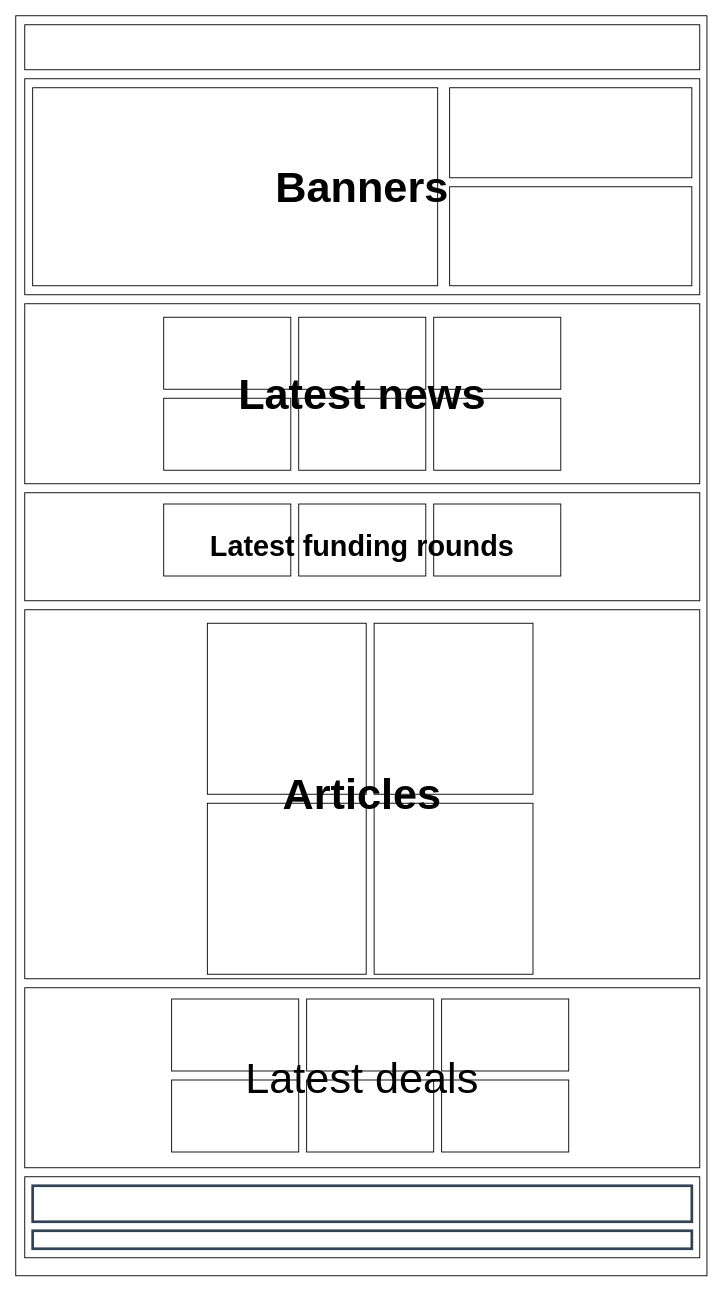
The diagram is 723 pixels wide and 1292 high, and some of its shapes have lost their labels. The shapes that lost their labels are listed below. From the top down, each one's box as (x1, y1, x2, y2) in pixels, then its label:
(24, 24, 700, 70): Top menu
(24, 1176, 700, 1258): Footer
